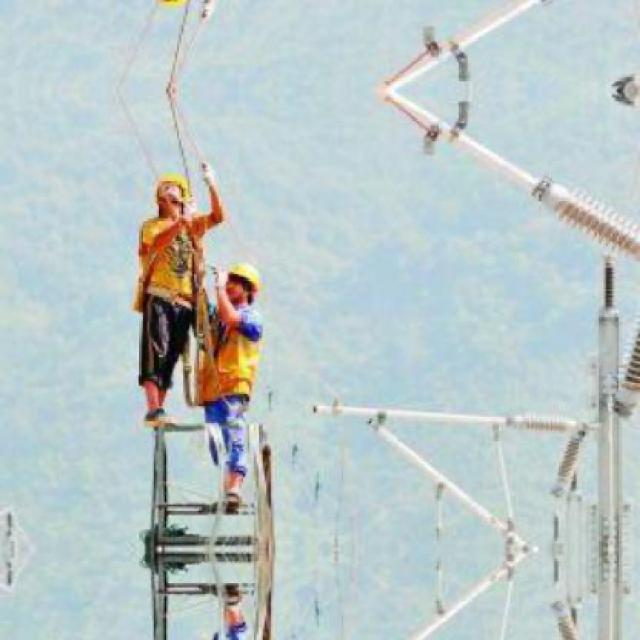con casco: (174, 262, 270, 340), (119, 172, 193, 229)
